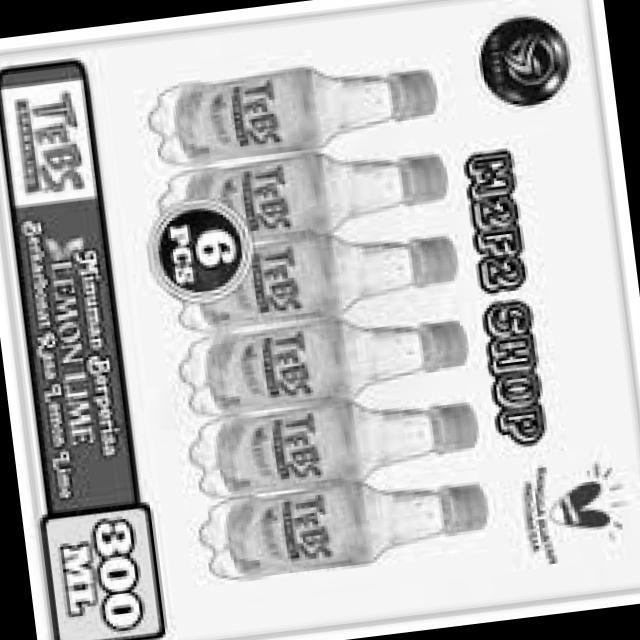good: (176, 284, 474, 435), (146, 33, 445, 176), (196, 454, 498, 593), (177, 376, 489, 508), (170, 147, 469, 270), (173, 216, 471, 337)
